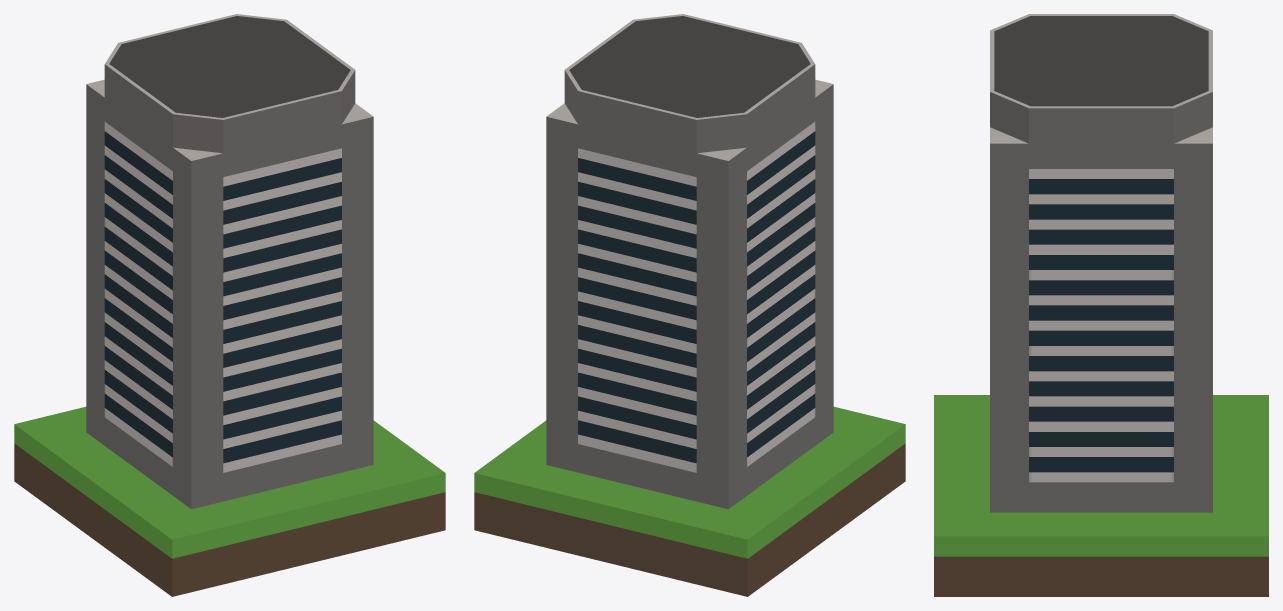
Rendered from skyscraper-medium.glb.
3 renders of one model, left to right at view 1: azimuth 30°, elevation 25°; view 2: azimuth 150°, elevation 25°; view 3: azimuth 270°, elevation 25°, orthographic. The views are drawn at different scales.
Visible parts, largest first — view 1: skyscraper-medium; view 2: skyscraper-medium; view 3: skyscraper-medium.
Part boxes in pixels (x1,y1,x2,y2): skyscraper-medium: (14,14,445,596); skyscraper-medium: (474,14,905,596); skyscraper-medium: (934,14,1268,596).
Bounding box in the file's own units: 30 × 46 × 30.
Materials: 1 (1 with a texture image).
